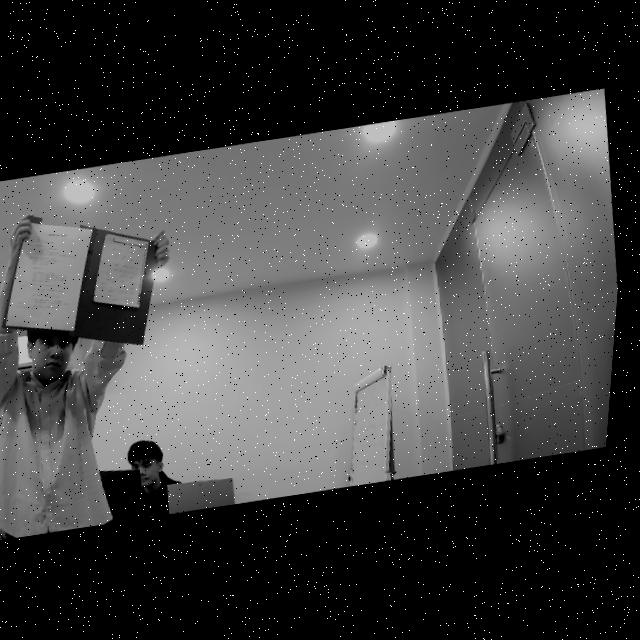document: (6, 223, 92, 332), (93, 233, 149, 307)
face: (31, 330, 72, 379), (131, 446, 167, 491)
